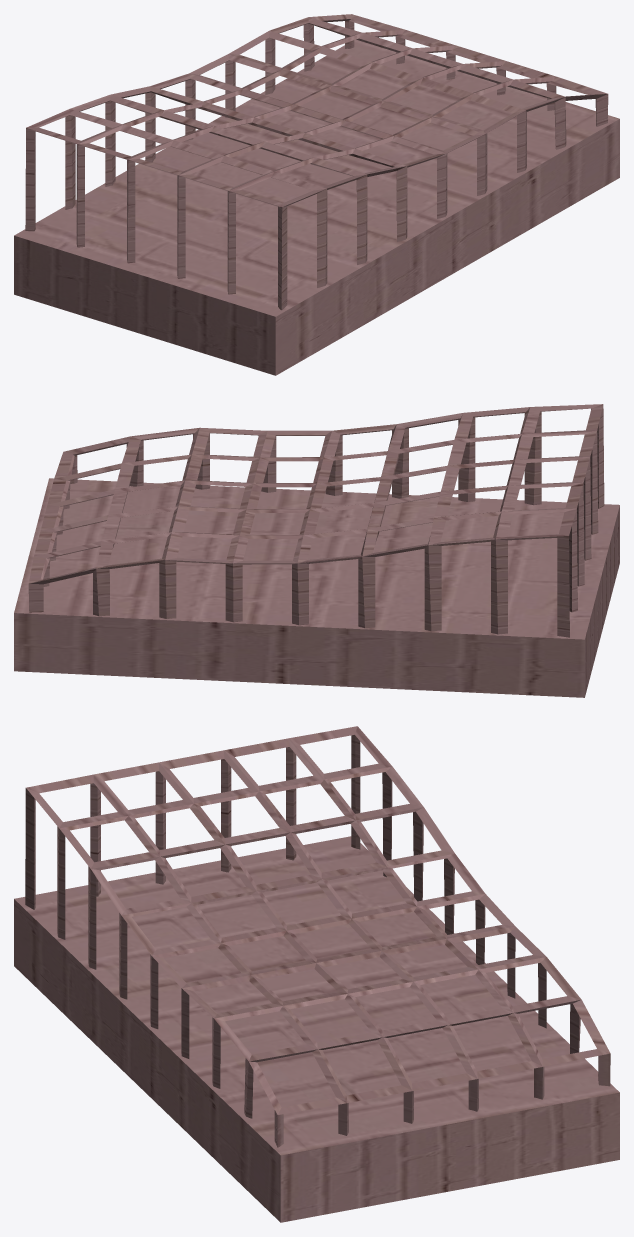
Rendered from CasaRosada.gltf.
3 renders of one model, top to bottom at view 1: azimuth 30°, elevation 25°; view 2: azimuth 150°, elevation 25°; view 3: azimuth 270°, elevation 25°, orthographic. The views are drawn at different scales.
Parts seen in each view (by area): view 1: CasaRosada; view 2: CasaRosada; view 3: CasaRosada.
Boxes of the visible parts, x1,y1,x2,y2 form: CasaRosada: (14,14,619,375); CasaRosada: (14,404,619,697); CasaRosada: (14,726,619,1222).
Size of the model in its own units: 1.26 by 0.3411 by 1.01.
1 material, 1 textured.
